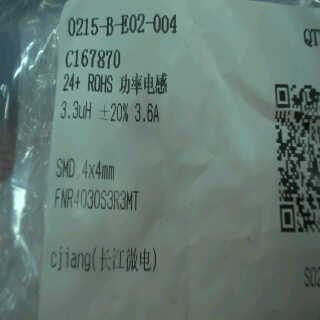3.3uH: (61, 94, 93, 123)
